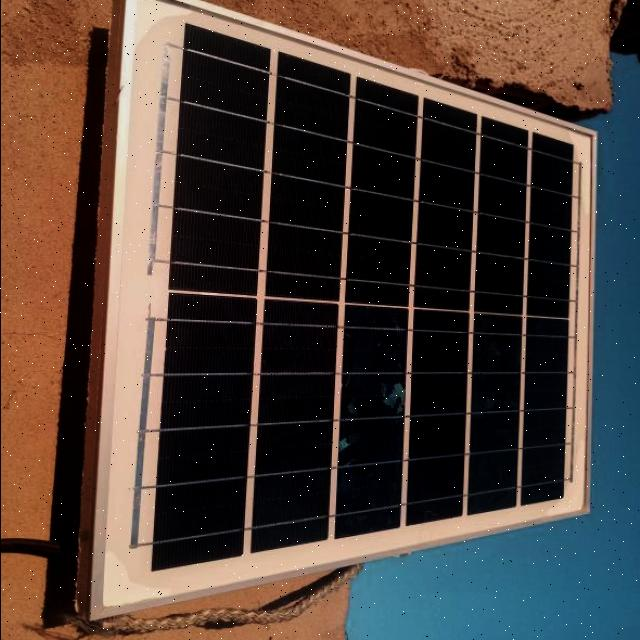Normal Solar Panel: (93, 0, 590, 616)
